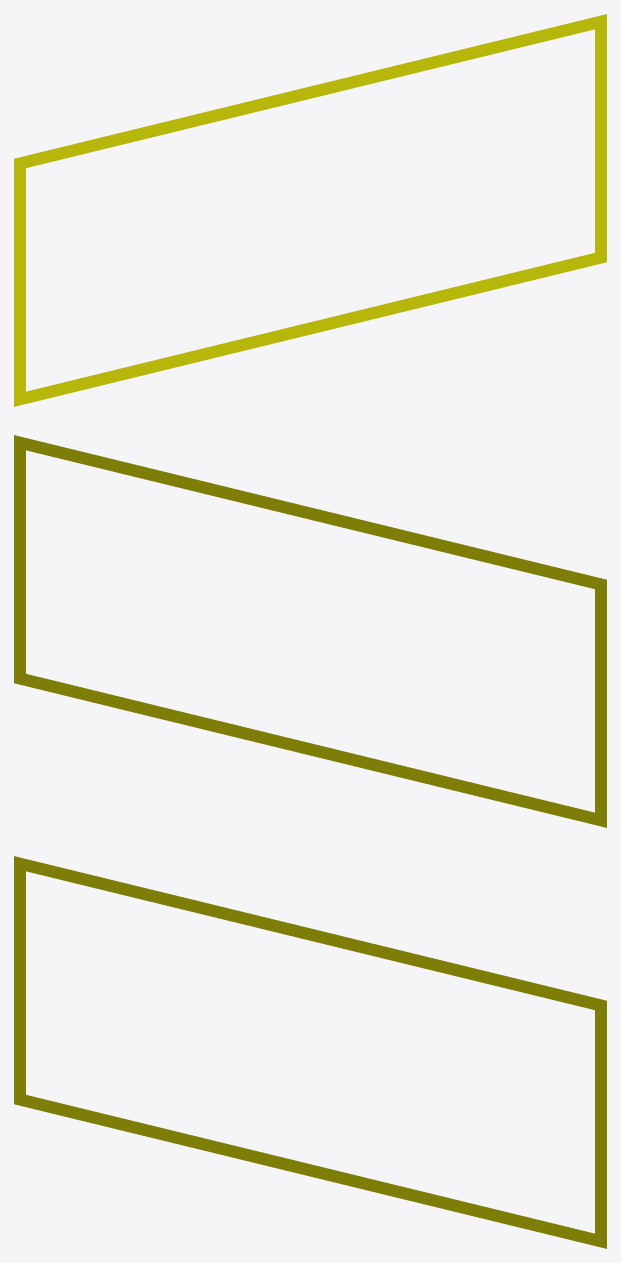
Rendered from RoomSelector_Size4.fbx.
3 views of the same model, one above another, from view 1: azimuth 30°, elevation 25°; view 2: azimuth 150°, elevation 25°; view 3: azimuth 330°, elevation 25° (orthographic).
Visible parts, largest first — view 1: RoomSelectorSize4; view 2: RoomSelectorSize4; view 3: RoomSelectorSize4.
Part boxes in pixels (x1=…): RoomSelectorSize4: x1=14, y1=14, x2=606, y2=406; RoomSelectorSize4: x1=14, y1=435, x2=606, y2=827; RoomSelectorSize4: x1=14, y1=856, x2=606, y2=1248.
Size of the model in its own units: 1000 by 400 by 0.
